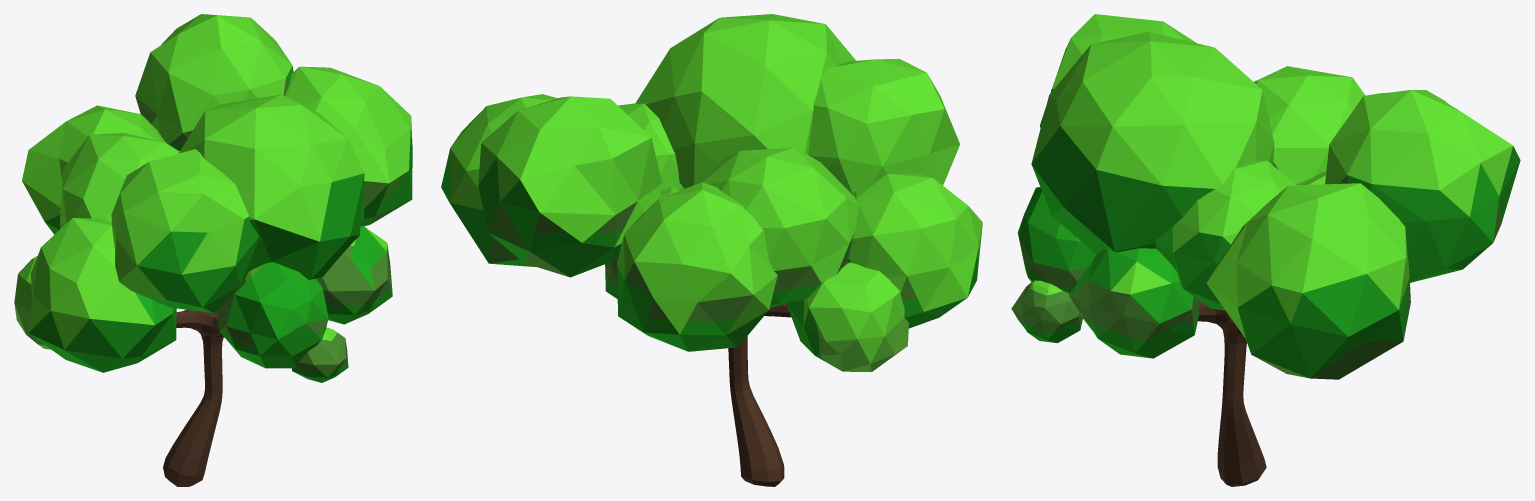
Rendered from tree5 02.fbx.
3 renders of one model, left to right at view 1: azimuth 30°, elevation 25°; view 2: azimuth 150°, elevation 25°; view 3: azimuth 270°, elevation 25°, orthographic. The views are drawn at different scales.
Parts seen in each view (by area): view 1: Arbol2Hojas; view 2: Arbol2Hojas; view 3: Arbol2Hojas.
Boxes of the visible parts, box(x1,y1,x2,y2) form: Arbol2Hojas: box(14, 14, 412, 486); Arbol2Hojas: box(441, 14, 982, 486); Arbol2Hojas: box(1011, 14, 1520, 486).
Size of the model in its own units: 906 by 804 by 804.
